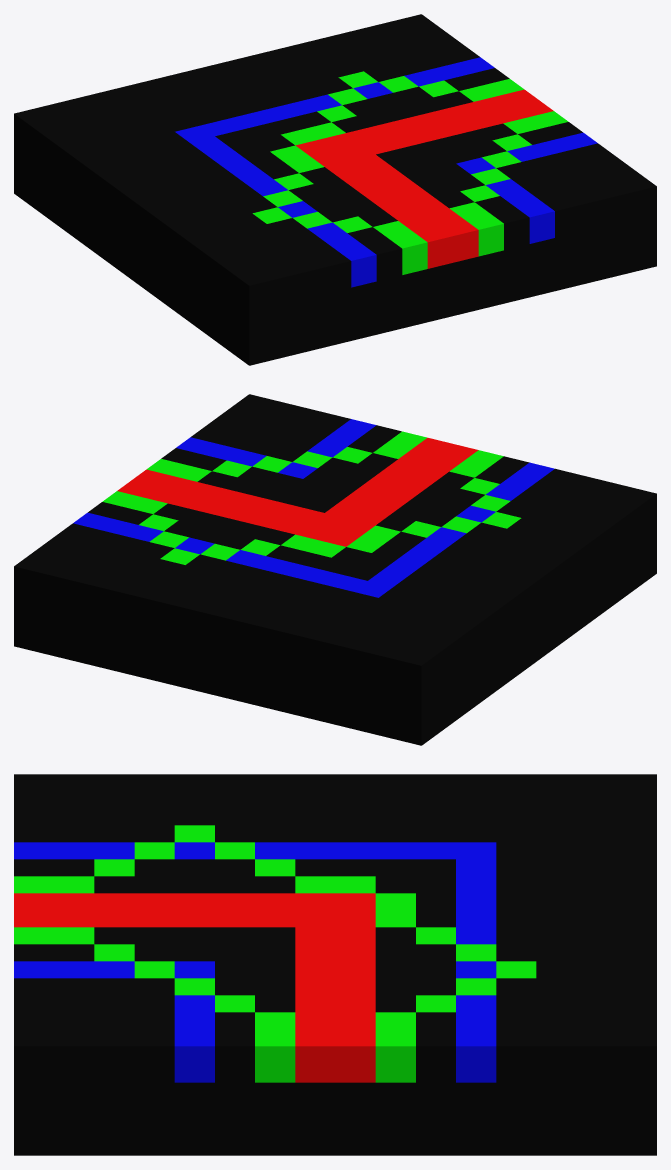
The model's file is corner3.obj.
3 renders of one model, top to bottom at view 1: azimuth 30°, elevation 25°; view 2: azimuth 150°, elevation 25°; view 3: azimuth 270°, elevation 25°, orthographic. The views are drawn at different scales.
Parts seen in each view (by area): view 1: corner3; view 2: corner3; view 3: corner3.
Boxes of the visible parts, x1,y1,x2,y2 form: corner3: (14, 14, 656, 365); corner3: (14, 394, 656, 745); corner3: (14, 774, 656, 1155).
Size of the model in its own units: 16 by 3 by 16.
Materials: 1 (1 with a texture image).
